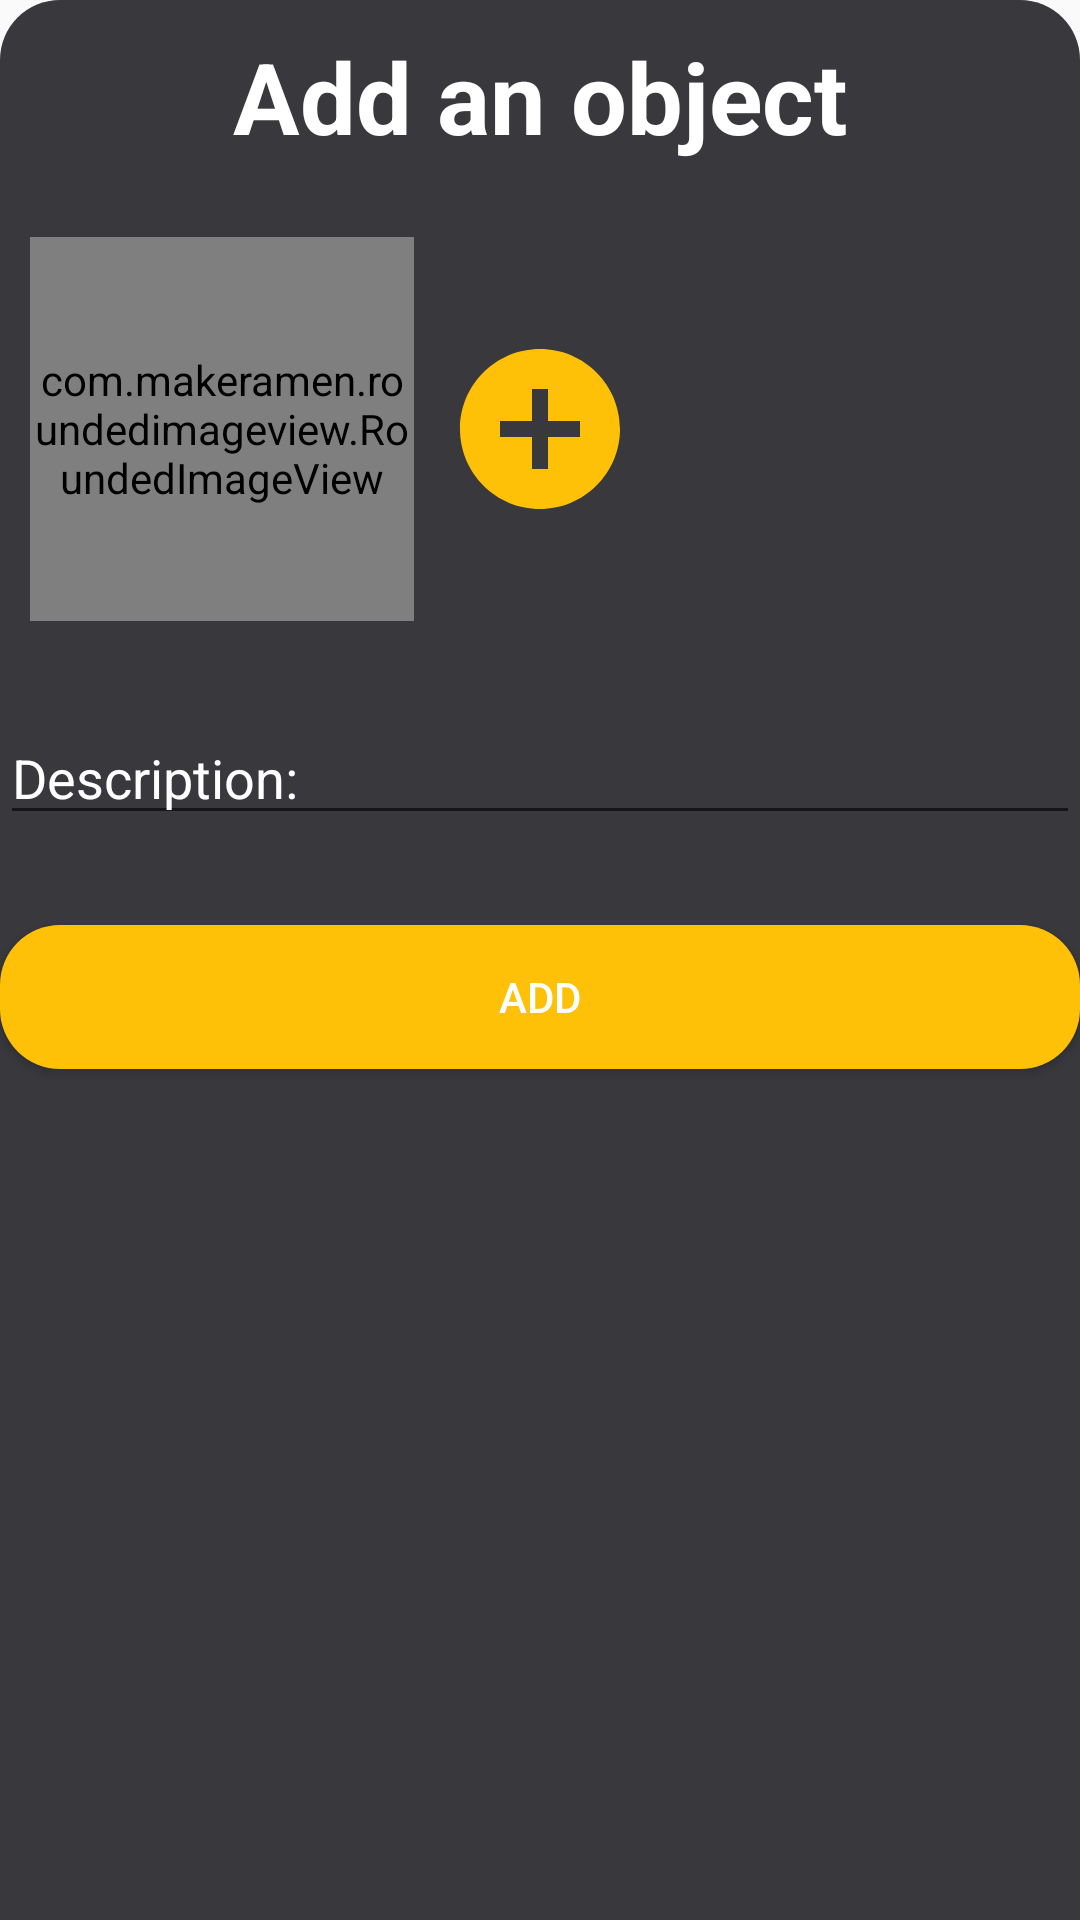

Icons on this 1080px x 1920px Android screen, each with its box as (x1, y1, x2, y2):
Add: (460, 349, 620, 509)
